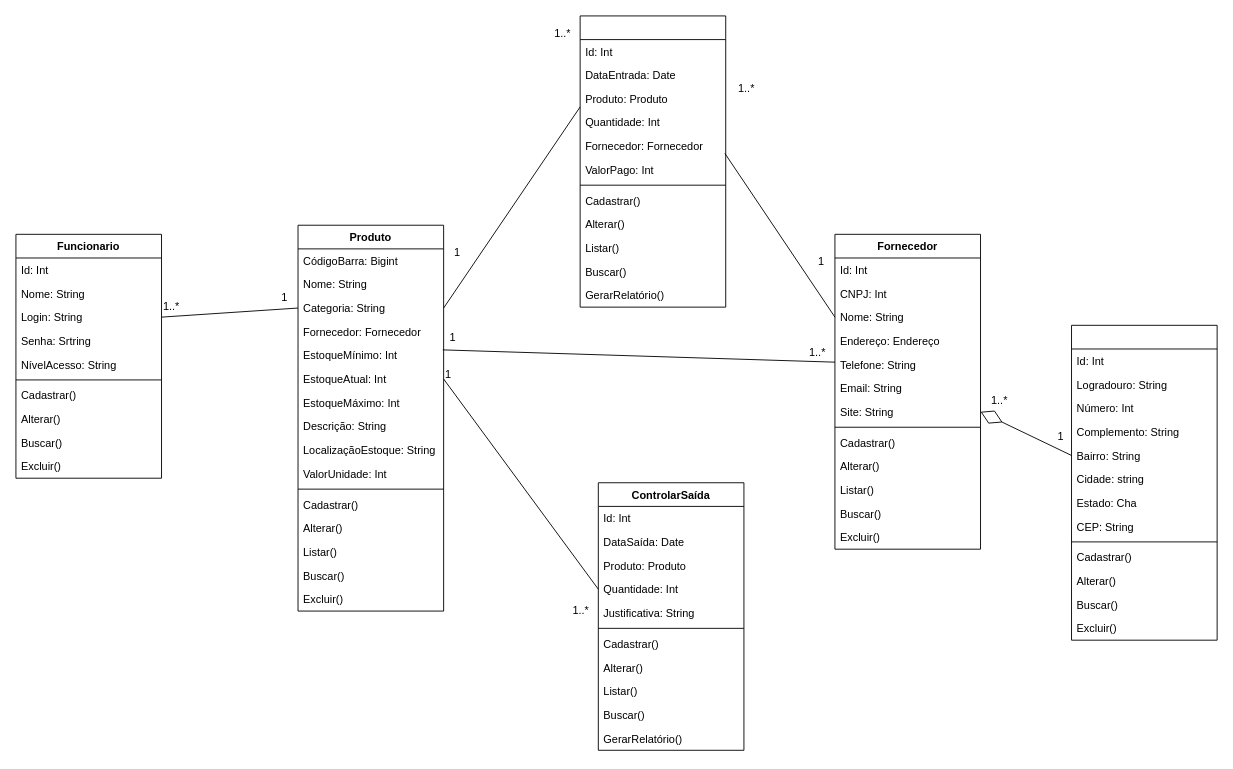
The diagram is 1233 pixels wide and 769 high, and some of its shapes have lost their labels. The shapes that lost their labels are listed below. From the top down, each one's box as (x1, y1, x2, y2) in pixels, then its label:
(579, 15, 726, 307): ControlarEntrada
(1071, 324, 1217, 640): Endereço
